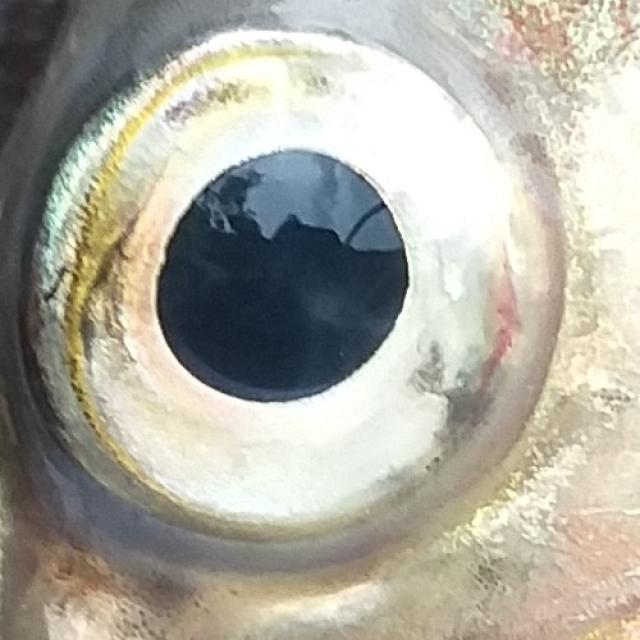Non-Fresh: (18, 8, 590, 584)
